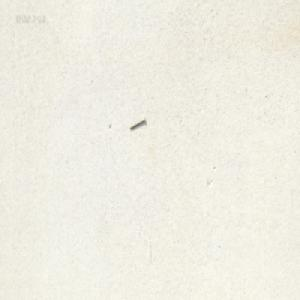Bolt: (129, 117, 145, 130)
